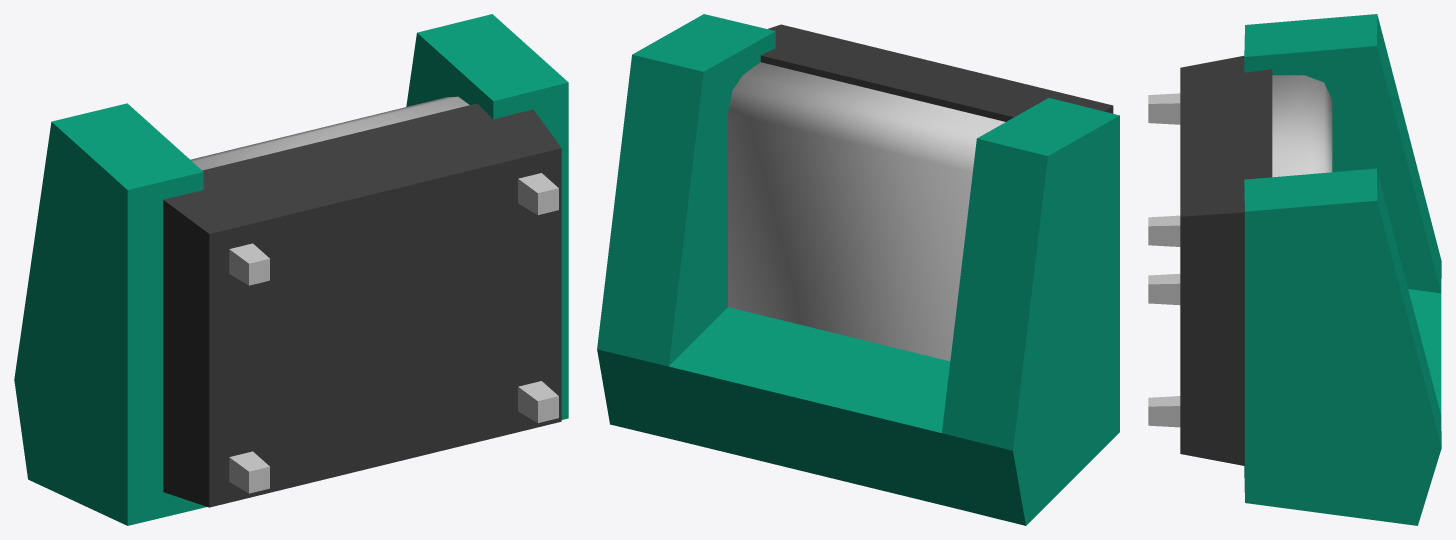
The model's file is Sofa_2_Alt.glb.
The picture shows the model from 3 angles, left to right: view 1: azimuth 30°, elevation 25°; view 2: azimuth 150°, elevation 25°; view 3: azimuth 270°, elevation 25°; orthographic projection. The views are drawn at different scales.
Visible parts, largest first — view 1: Sofa 2 Alt; view 2: Sofa 2 Alt; view 3: Sofa 2 Alt.
Boxes of the visible parts, <box> form: Sofa 2 Alt: <box>14,14,568,525</box>; Sofa 2 Alt: <box>597,14,1119,525</box>; Sofa 2 Alt: <box>1148,14,1441,525</box>.
Bounding box in the file's own units: 1.15 × 0.9356 × 0.7648.
1 material, 1 textured.
